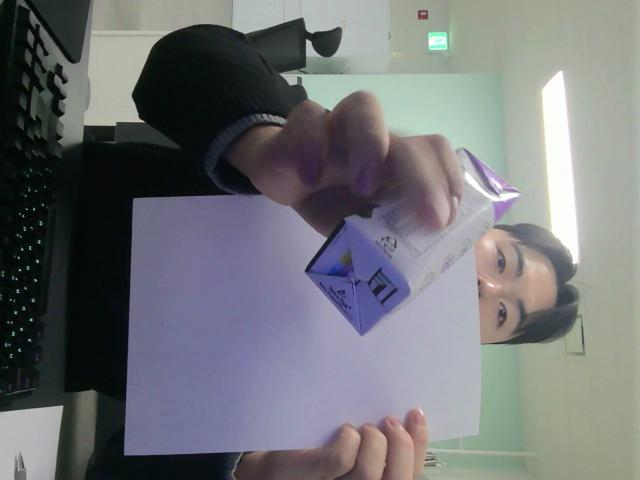milk: (306, 148, 519, 335)
